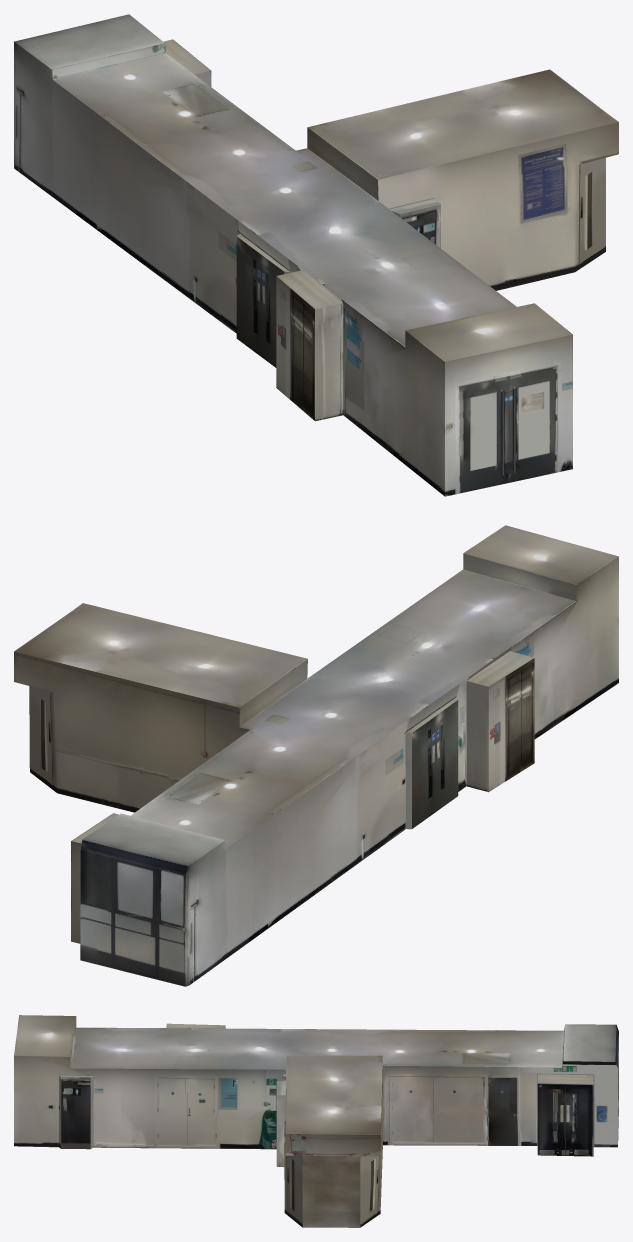
File: w-corr-next-to-libraryLP.fbx
3 renders of one model, top to bottom at view 1: azimuth 30°, elevation 25°; view 2: azimuth 150°, elevation 25°; view 3: azimuth 270°, elevation 25°, orthographic. The views are drawn at different scales.
Parts seen in each view (by area): view 1: w-corr-next-to-libraryLP; view 2: w-corr-next-to-libraryLP; view 3: w-corr-next-to-libraryLP.
Boxes of the visible parts, box(x1,y1,x2,y2) form: w-corr-next-to-libraryLP: box(14, 14, 618, 496); w-corr-next-to-libraryLP: box(14, 525, 618, 986); w-corr-next-to-libraryLP: box(14, 1015, 618, 1227).
Bounding box in the file's own units: 790 × 268 × 1561.
Materials: 1 (1 with a texture image).
